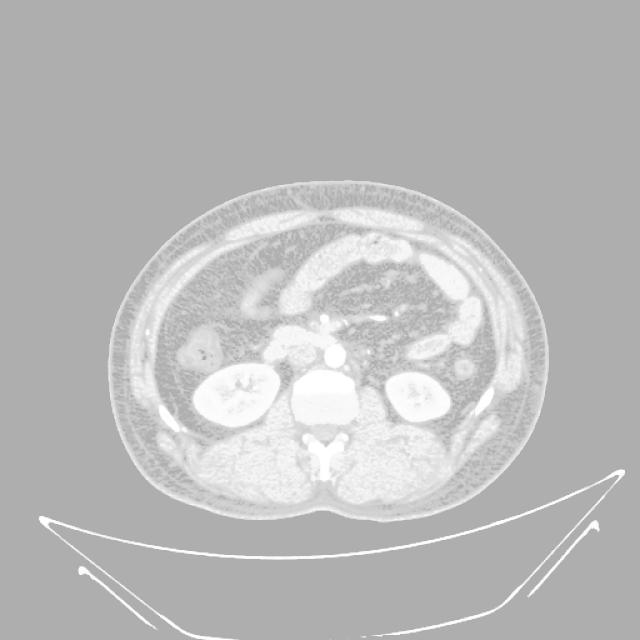NORMAL: (107, 161, 547, 533)
